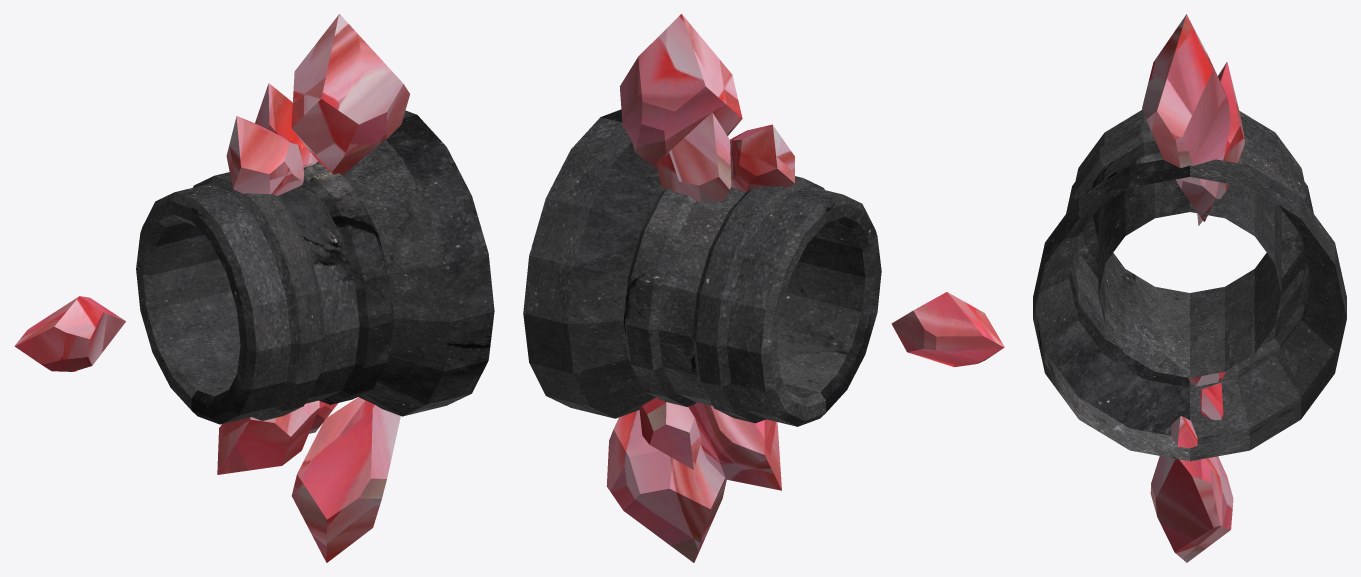
The model's file is Canon à pierre.fbx.
The picture shows the model from 3 angles, left to right: view 1: azimuth 30°, elevation 25°; view 2: azimuth 150°, elevation 25°; view 3: azimuth 270°, elevation 25°; orthographic projection.
Visible parts, largest first — view 1: Cylinder.002, Icosphere.031, Icosphere.025, Icosphere.029; view 2: Cylinder.002, Icosphere.031, Icosphere.025, Icosphere.029; view 3: Cylinder.002, Icosphere.031, Icosphere.025.
Part boxes in pixels (x1,y1,x2,y2): Cylinder.002: (136, 110, 494, 424); Icosphere.031: (226, 14, 409, 195); Icosphere.025: (217, 397, 400, 562); Icosphere.029: (14, 296, 125, 371); Cylinder.002: (523, 109, 881, 426); Icosphere.031: (619, 14, 794, 201); Icosphere.025: (606, 397, 781, 562); Icosphere.029: (891, 292, 1004, 367); Cylinder.002: (1033, 109, 1346, 461); Icosphere.031: (1142, 14, 1244, 225); Icosphere.025: (1150, 372, 1233, 562).
Size of the model in its own units: 135 by 174 by 89.37.
Materials: 2 (2 with a texture image).
